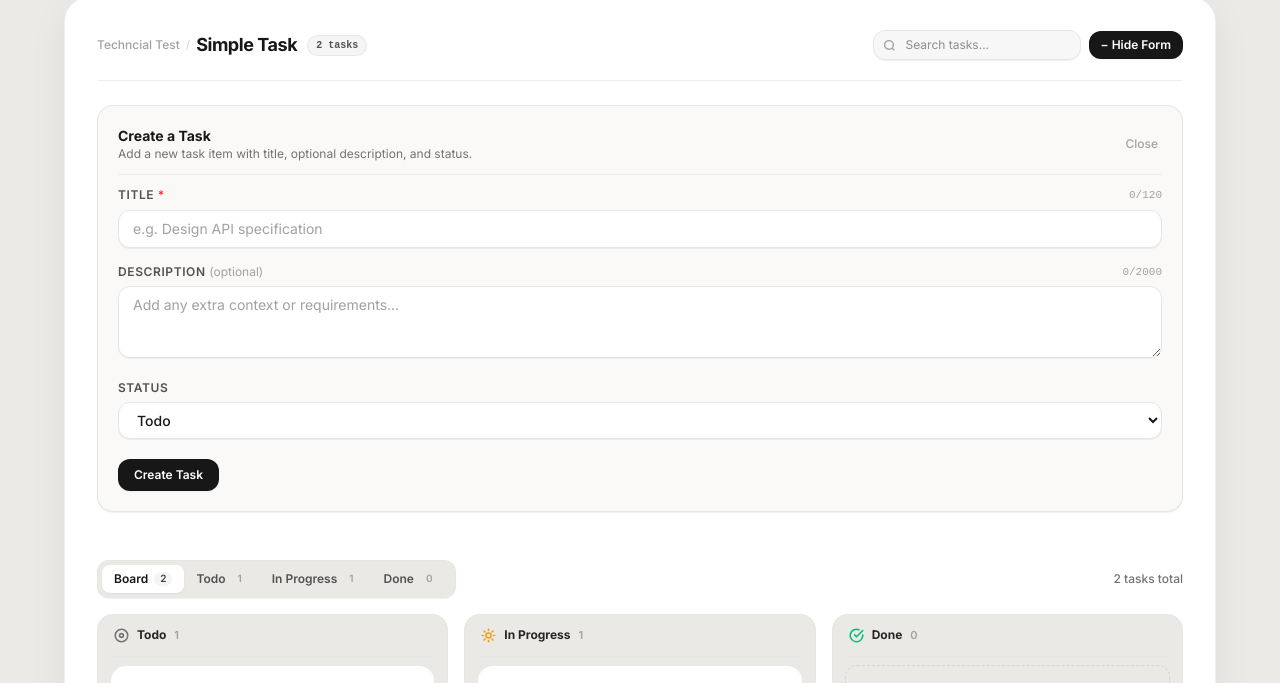
it: Task Tracker App Component Tests (with Axios) › filters task list by status pill and restores all
Click the button "In Progress 1" at (316, 579), box x1=260 y1=565 x2=372 y2=593
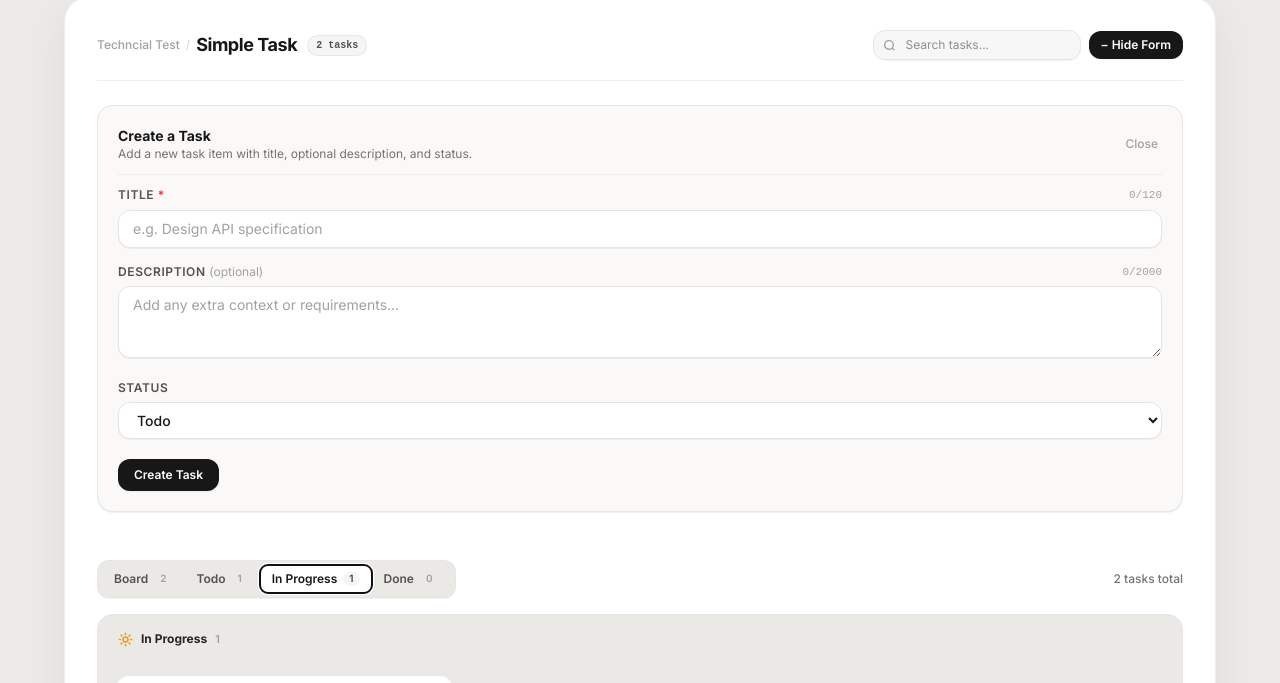
Expected: the heading "Design API contract" is not shown
Click the button "Done 0" at (411, 579), box x1=372 y1=565 x2=450 y2=593
(page scrolled)
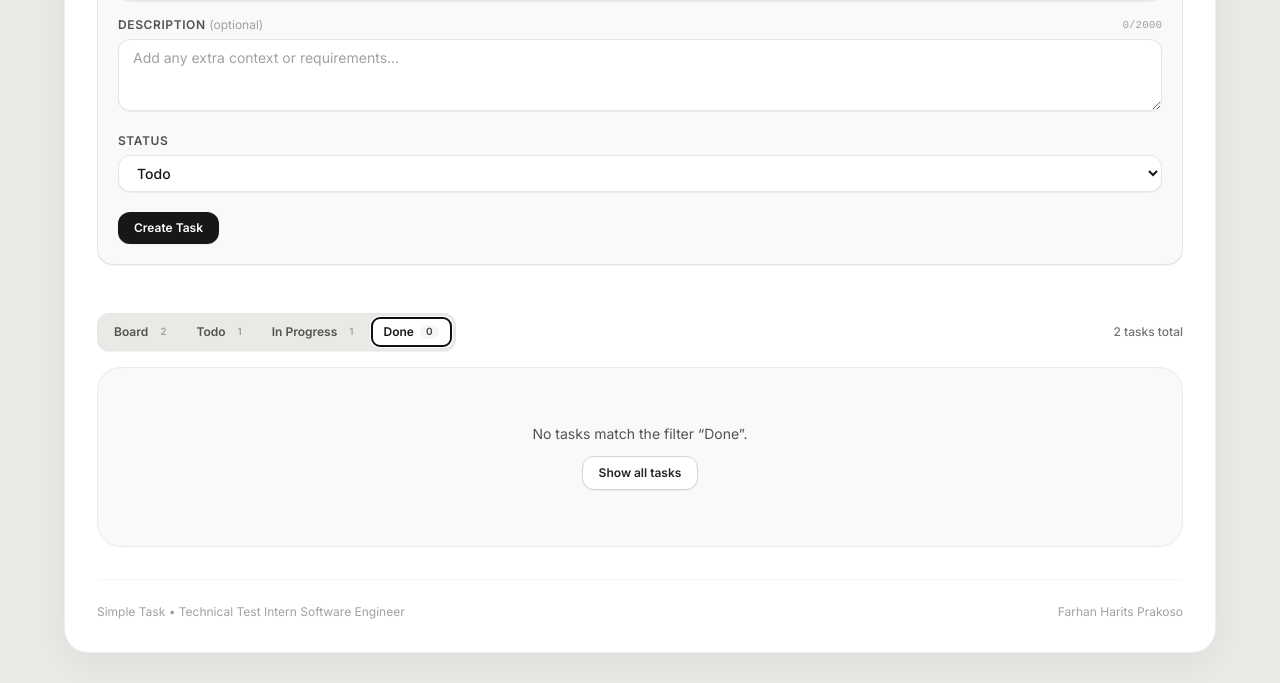
Now the text "No tasks match the filter “Done”." is shown, box x1=532 y1=425 x2=748 y2=442
Click the button "Show all tasks" at (640, 473), box x1=582 y1=456 x2=698 y2=490
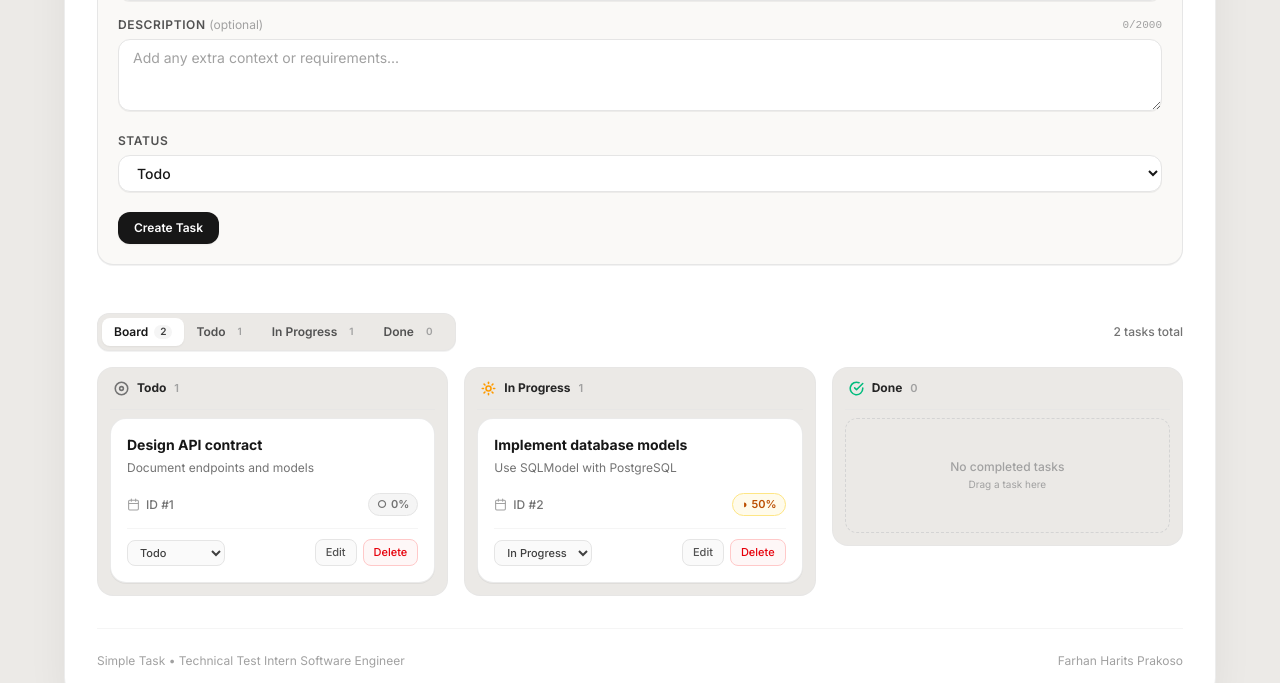
Now the heading "Design API contract" is shown, box x1=127 y1=436 x2=262 y2=452
Now the heading "Implement database models" is shown, box x1=494 y1=436 x2=687 y2=452
